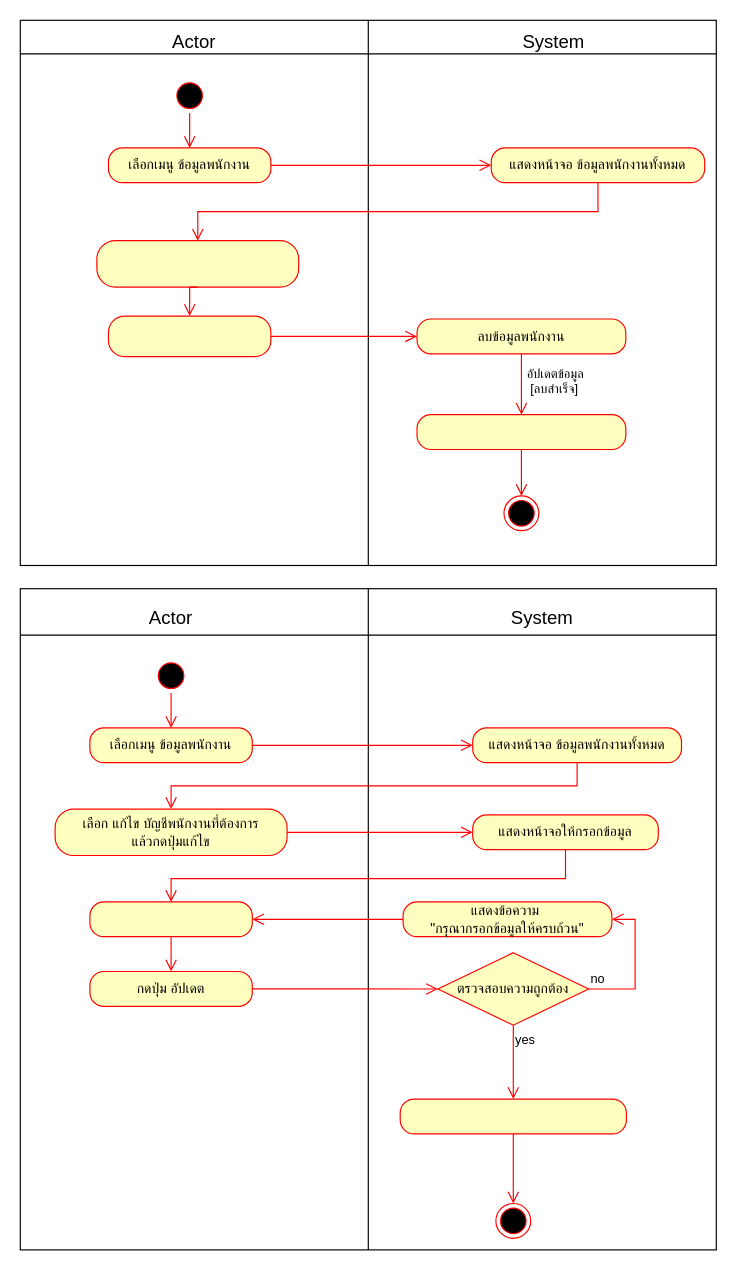
Some shapes in this 738 by 1271 pixel diagram are drawn without their labels. Each missing label, with the centre of its shape:
กดปุ่ม ยืนยัน: (189,336)
ป้อนข้อมูล: (170,919)
เลือก ลบ บัญชีพนักงานที่ต้องการ แล้วกดปุ่มลบ: (197,263)
แสดงข้อความ "ลบพนักงานสำเร็จ": (521,431)
แสดงข้อความ "แก้ไขพนักงานสำเร็จ": (512,1116)
